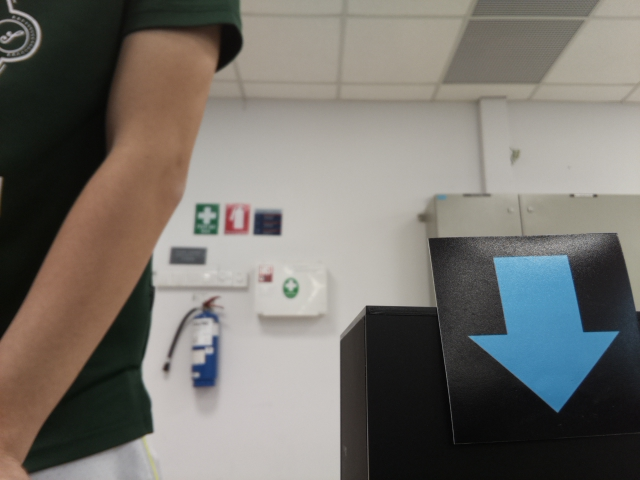down: (451, 252, 627, 416)
